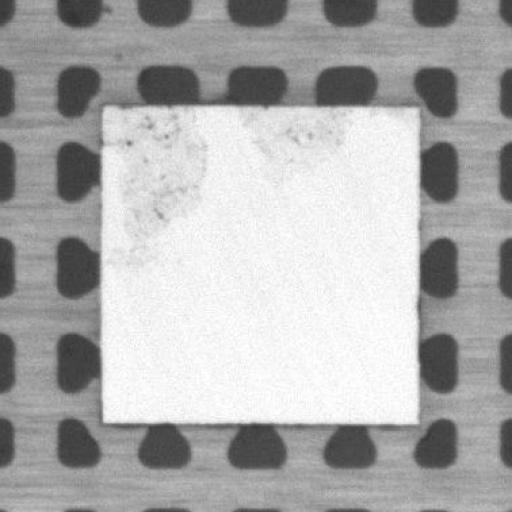DIE_INK: (100, 107, 344, 250)
